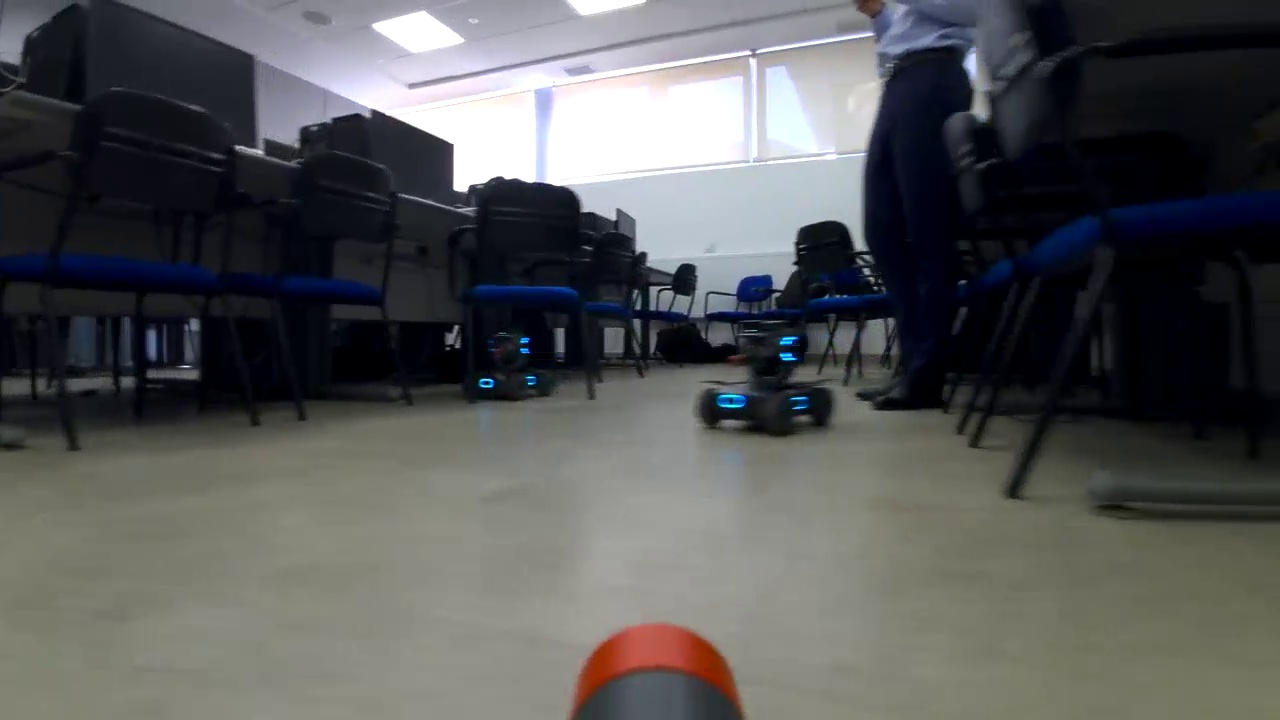robot: (694, 316, 840, 438), (462, 327, 559, 403)
